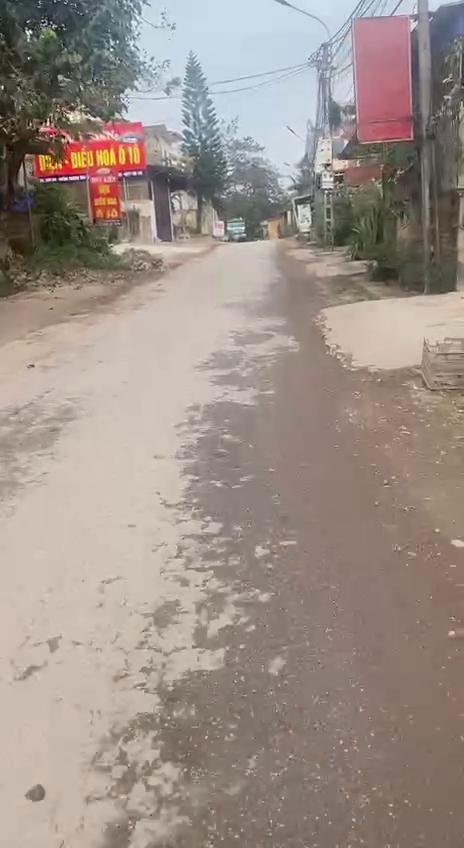pothole: (160, 664, 284, 772)
